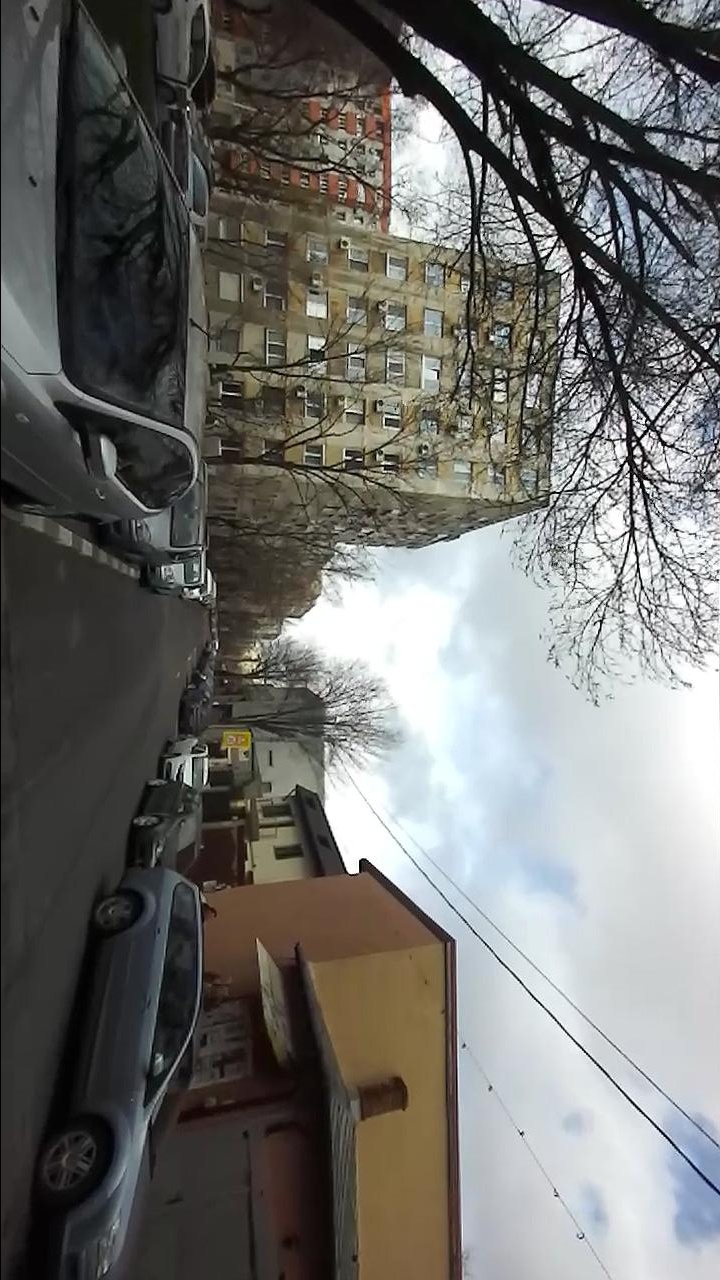pothole: (1, 612, 16, 694)
